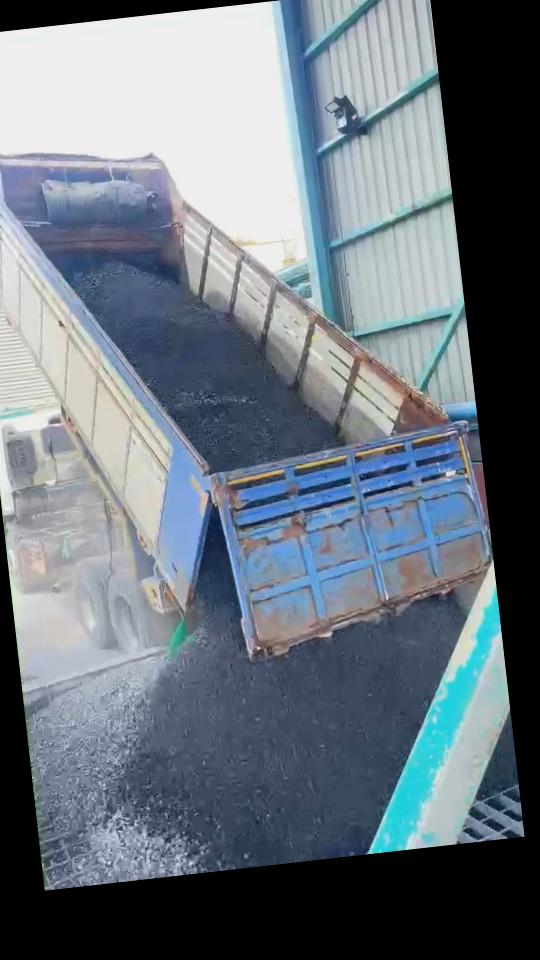gravel: (32, 520, 462, 883), (64, 260, 336, 470), (485, 726, 516, 791)
